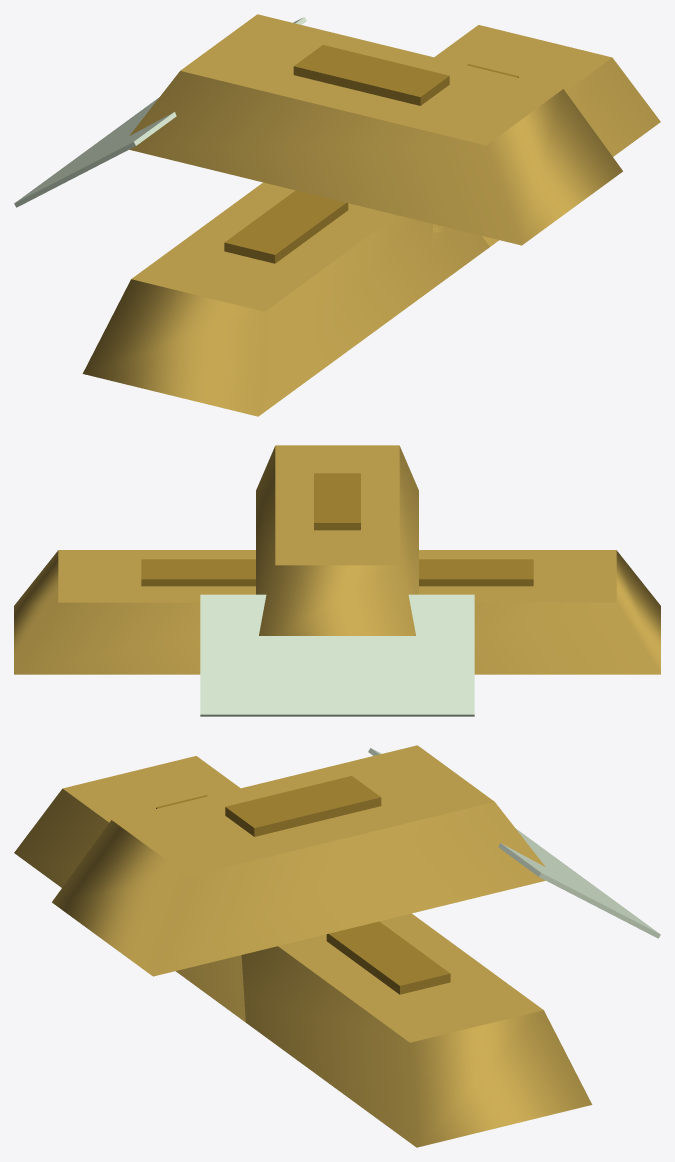
File: gold_bar.glb
The picture shows the model from 3 angles, top to bottom: view 1: azimuth 30°, elevation 25°; view 2: azimuth 150°, elevation 25°; view 3: azimuth 270°, elevation 25°; orthographic projection. The views are drawn at different scales.
Bounding box in the file's own units: 1.64 × 0.4 × 1.33.
